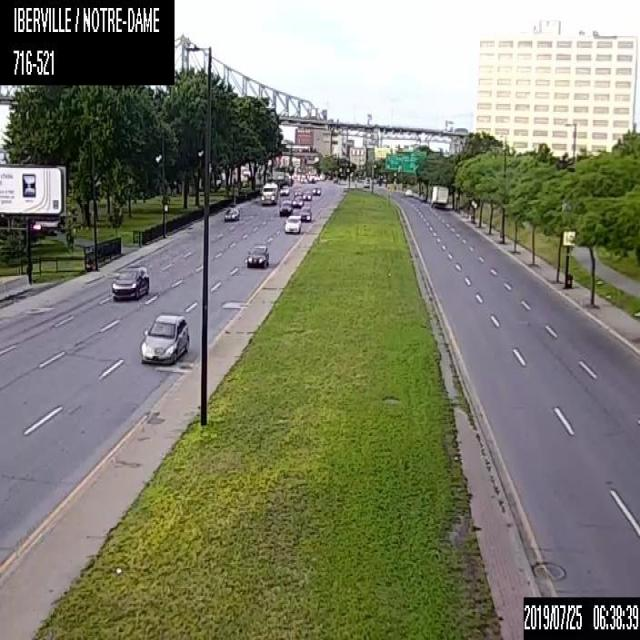vehicle: (138, 310, 188, 362), (108, 264, 149, 299), (244, 243, 268, 268), (429, 183, 448, 208), (260, 182, 277, 204), (284, 214, 300, 233), (224, 204, 239, 221), (278, 199, 292, 214), (299, 206, 311, 222), (292, 195, 304, 207), (279, 184, 289, 195), (302, 189, 312, 200), (403, 187, 412, 196), (312, 185, 321, 194)
